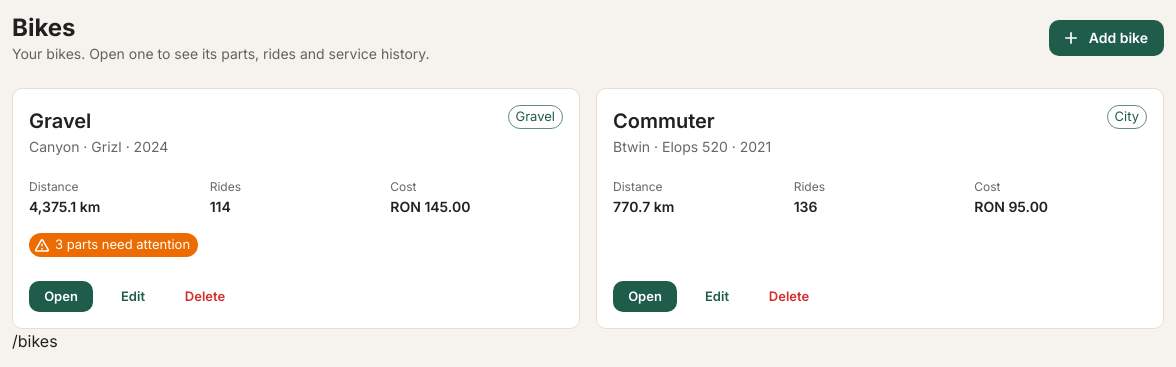
Test case: Bikes page › Open goes to the bike page
Expected: the heading "Gravel" is shown, [29,105,91,137]
Click the button "Open" below "770.7 km".
click(645, 296)  # box [613,281,677,312]
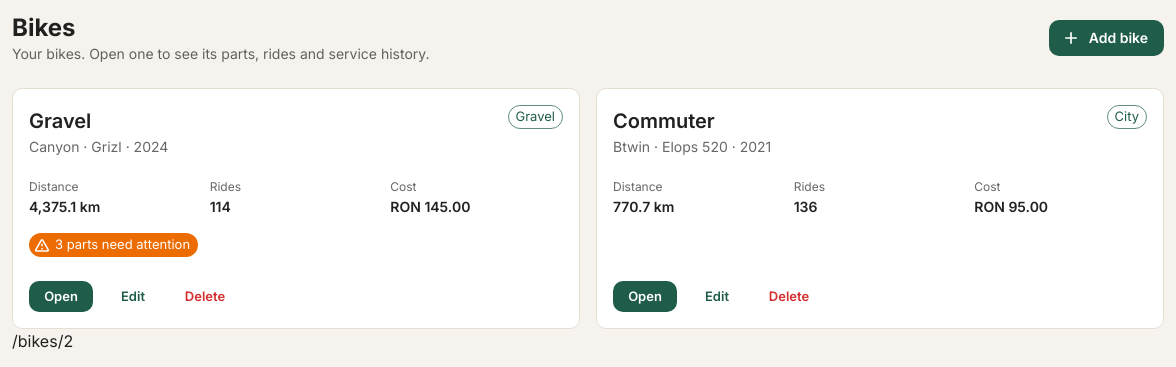
Now the text with test id "location" reads "/bikes/2", box [12,331,73,351]
